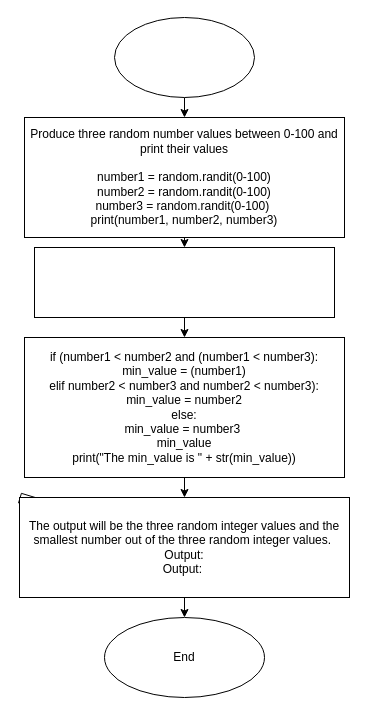
Some shapes in this 370 by 715 pixel diagram are drawn without their labels. Each missing label, with the box of its shape:
Begining: (114, 16, 254, 98)
put the number1 value to the variable min_value min_value = number1: (34, 246, 334, 318)
